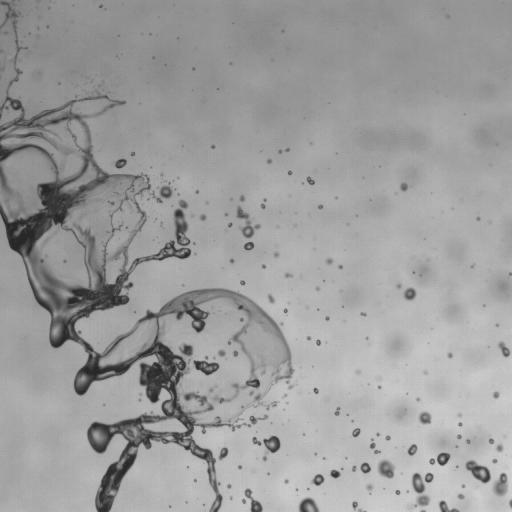droplet: (236, 206, 260, 238), (252, 435, 280, 460), (465, 460, 490, 483), (0, 0, 18, 31), (492, 472, 508, 496), (377, 459, 395, 478), (429, 452, 450, 466), (298, 497, 319, 511), (403, 287, 416, 300), (418, 411, 431, 424), (311, 474, 324, 485), (113, 158, 126, 168), (218, 447, 228, 459), (407, 444, 417, 455), (360, 462, 370, 473), (330, 469, 340, 478), (243, 242, 253, 250), (352, 428, 360, 437), (217, 349, 225, 357), (400, 182, 407, 191), (306, 177, 314, 184), (496, 444, 503, 452), (366, 484, 373, 492), (268, 294, 274, 303), (334, 407, 340, 415), (493, 391, 499, 398), (457, 493, 464, 499), (200, 214, 206, 220), (326, 258, 332, 264), (285, 272, 292, 277), (273, 252, 278, 257), (240, 280, 245, 285), (316, 340, 321, 345), (447, 353, 452, 358), (313, 388, 318, 393), (489, 438, 494, 443), (352, 465, 356, 471), (240, 196, 244, 201), (457, 434, 461, 439), (385, 436, 390, 440), (492, 459, 497, 463), (395, 490, 400, 494), (267, 159, 271, 163), (318, 205, 322, 209), (261, 264, 265, 268), (397, 284, 401, 288), (325, 316, 329, 320), (307, 336, 311, 340), (458, 422, 462, 426), (466, 439, 470, 443), (284, 479, 288, 483), (227, 484, 231, 488), (228, 223, 232, 226), (338, 265, 342, 268), (284, 309, 287, 313), (361, 312, 365, 315), (238, 465, 241, 469), (211, 145, 214, 148), (278, 150, 281, 153), (131, 152, 134, 155), (288, 171, 291, 174), (230, 259, 233, 262), (316, 287, 319, 290), (356, 370, 359, 373), (378, 385, 381, 388), (283, 394, 286, 397), (416, 398, 419, 401), (4, 31, 6, 34), (0, 49, 2, 52), (286, 148, 288, 151), (196, 190, 198, 193), (477, 217, 479, 220), (160, 223, 162, 226), (63, 260, 66, 262), (509, 272, 511, 275), (458, 414, 461, 416), (376, 433, 379, 435), (462, 484, 464, 487), (100, 5, 102, 7), (160, 173, 162, 175), (102, 198, 104, 200), (53, 232, 55, 234), (471, 265, 473, 267), (366, 337, 368, 339), (140, 393, 142, 395), (194, 479, 196, 481)
ligament: (0, 34, 294, 511), (408, 472, 433, 510), (242, 488, 262, 511), (78, 208, 97, 221), (438, 500, 459, 511), (498, 341, 511, 357), (370, 439, 379, 454), (352, 501, 365, 511), (261, 199, 266, 209), (0, 62, 4, 72), (509, 499, 511, 508), (420, 509, 425, 511), (0, 75, 1, 78)
